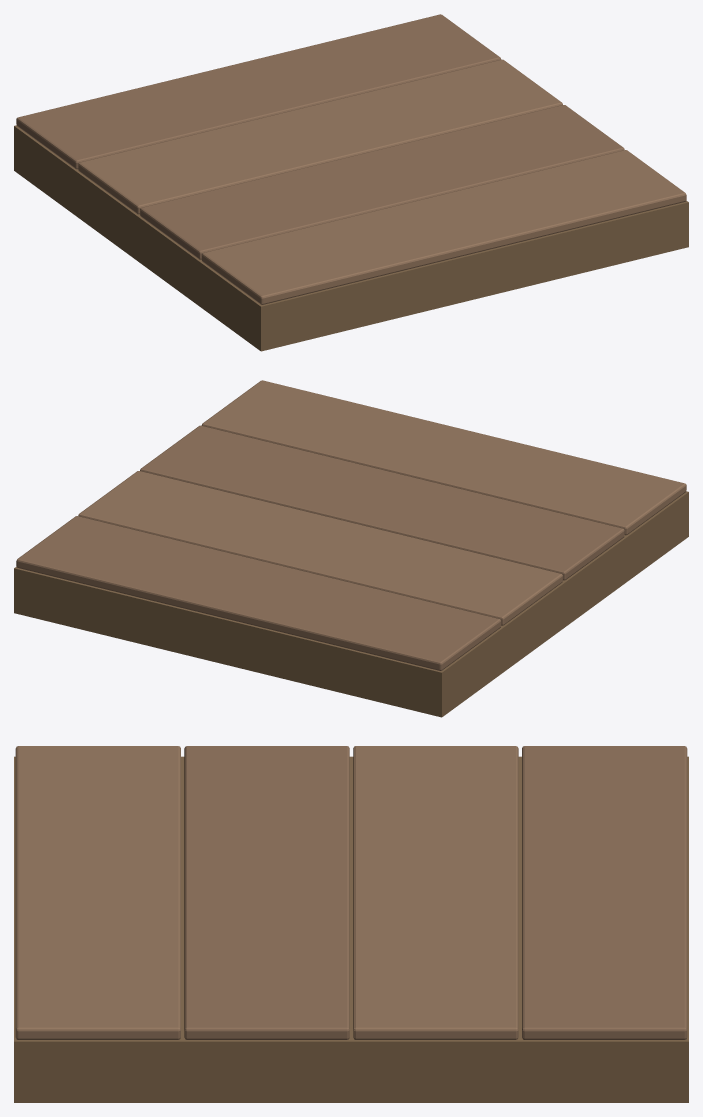
Rendered from floor_parquet_b.glb.
3 renders of one model, top to bottom at view 1: azimuth 30°, elevation 25°; view 2: azimuth 150°, elevation 25°; view 3: azimuth 270°, elevation 25°, orthographic. The views are drawn at different scales.
Visible parts, largest first — view 1: floor_parquet_b; view 2: floor_parquet_b; view 3: floor_parquet_b.
Part boxes in pixels (left/top/right/bottom): floor_parquet_b: left=14, top=14, right=688, bottom=351; floor_parquet_b: left=14, top=380, right=688, bottom=717; floor_parquet_b: left=14, top=746, right=688, bottom=1102.
Bounding box in the file's own units: 1 × 0.12 × 1.
